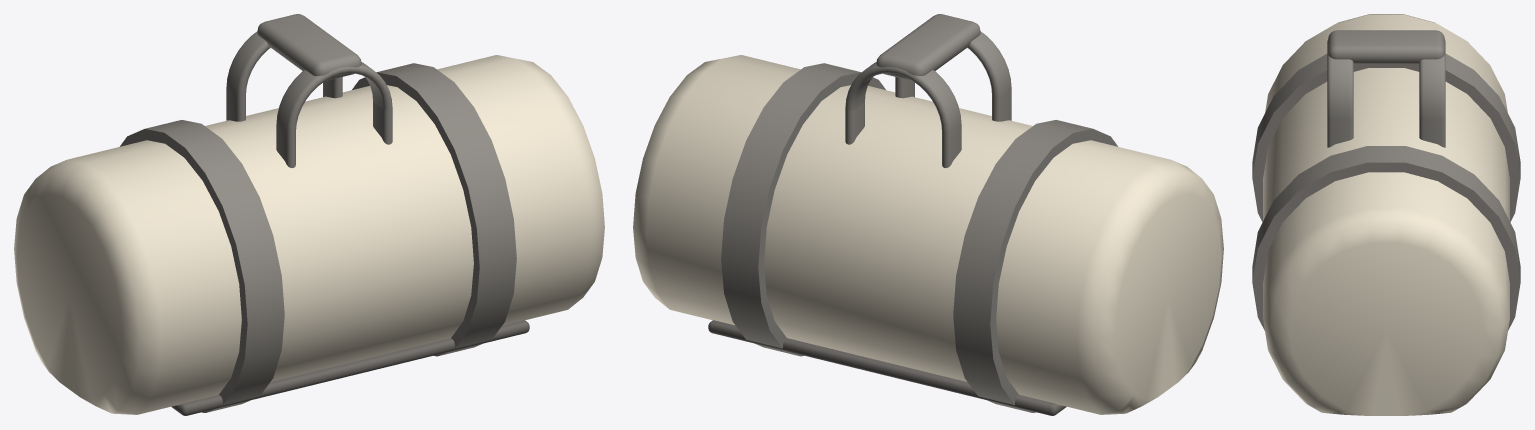
The model's file is bagage_sac_marin.glb.
3 renders of one model, left to right at view 1: azimuth 30°, elevation 25°; view 2: azimuth 150°, elevation 25°; view 3: azimuth 270°, elevation 25°, orthographic. The views are drawn at different scales.
Visible parts, largest first — view 1: MAR_Coque, MAR_Sangles, MAR_Fond; view 2: MAR_Coque, MAR_Sangles, MAR_Fond; view 3: MAR_Coque, MAR_Sangles.
Boxes of the visible parts, x1,y1,x2,y2 form: MAR_Coque: (14,55,604,414); MAR_Sangles: (120,14,516,412); MAR_Fond: (171,320,529,415); MAR_Coque: (633,55,1223,414); MAR_Sangles: (721,14,1117,412); MAR_Fond: (708,320,1066,415); MAR_Coque: (1263,14,1509,415); MAR_Sangles: (1252,30,1520,330).
Size of the model in its own units: 0.62 by 0.4083 by 0.326.
